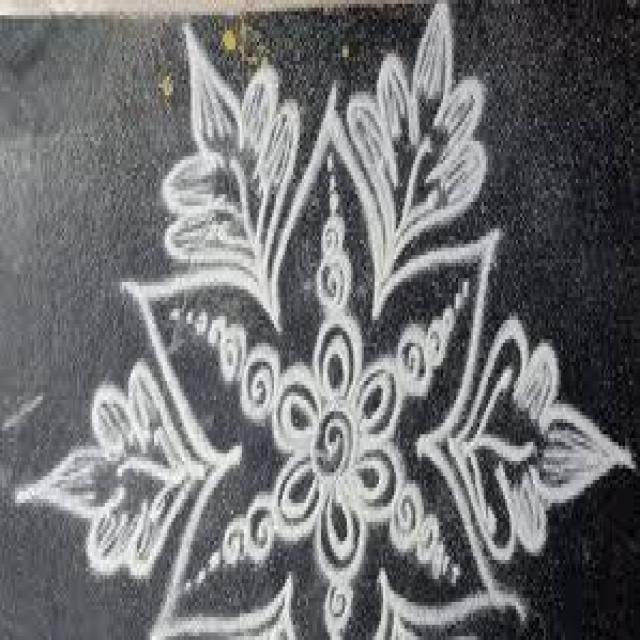rangoli: (12, 10, 640, 623)
